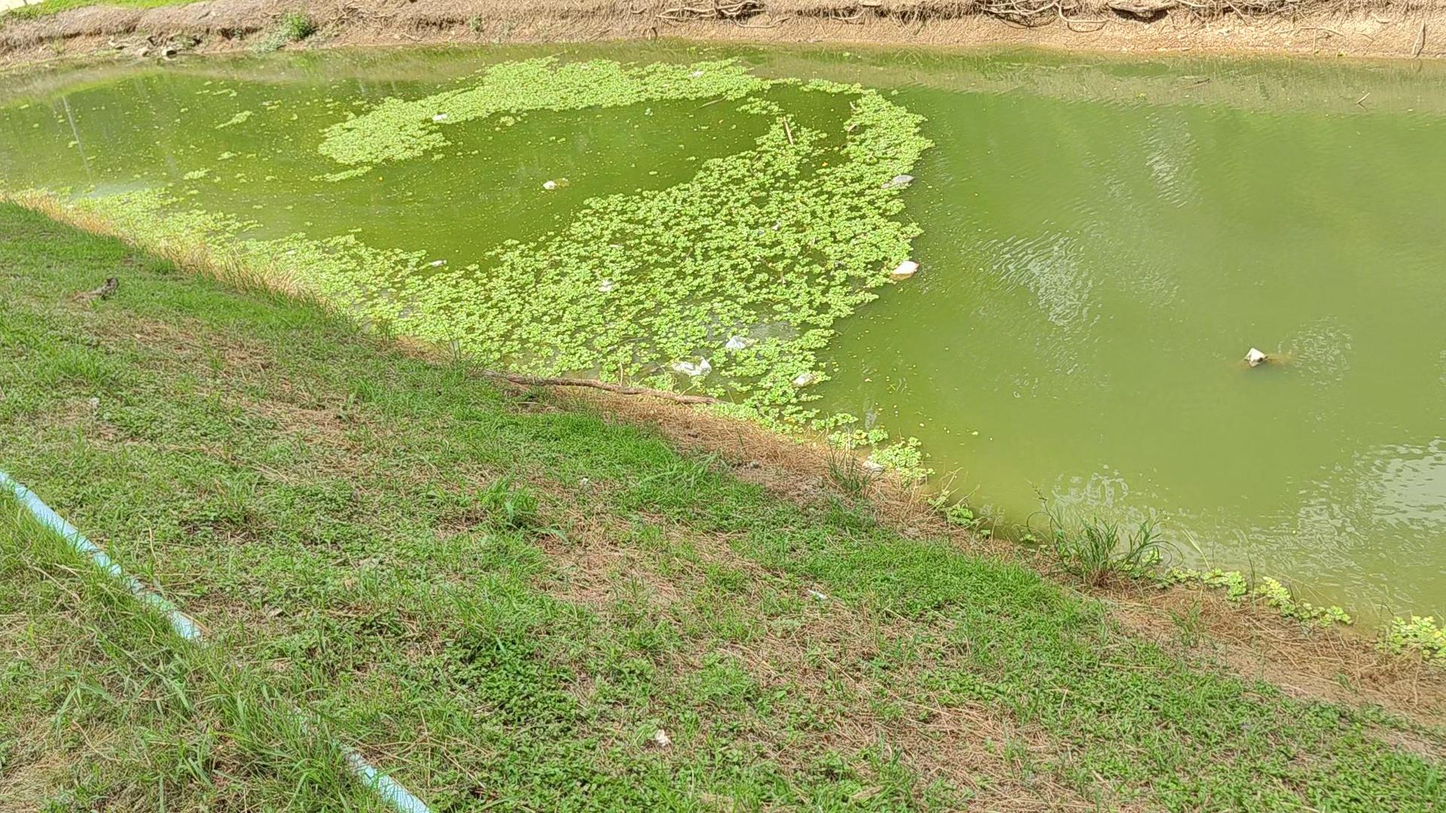trash: (673, 358, 711, 376), (891, 260, 918, 279), (881, 174, 914, 189), (1245, 347, 1268, 367), (725, 336, 755, 350), (793, 372, 816, 386), (545, 178, 568, 189), (598, 279, 616, 293), (432, 113, 446, 122), (428, 260, 445, 266), (691, 70, 703, 76)
